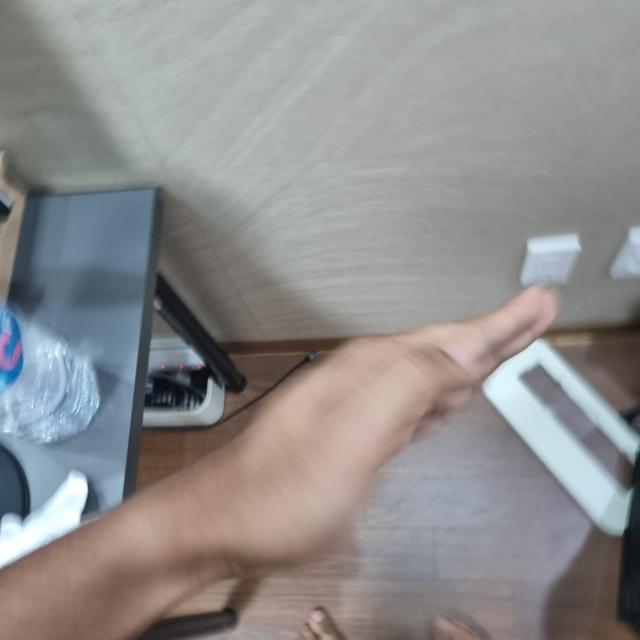Paper: (164, 297, 554, 567)
